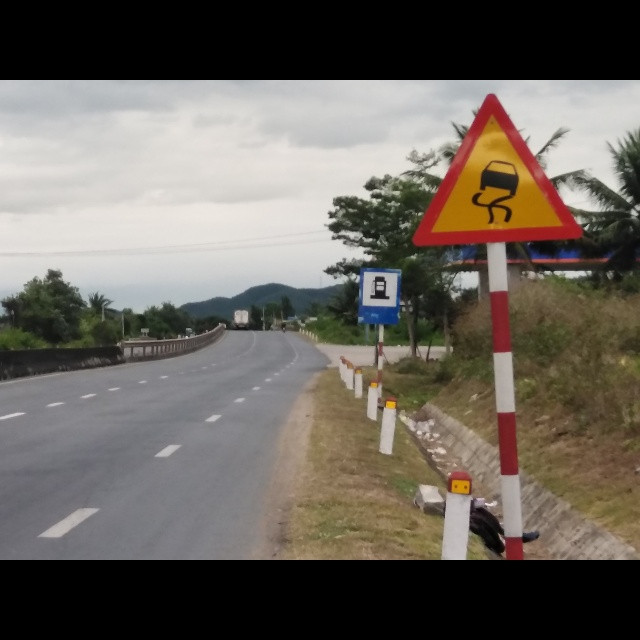Đường trơn trượt: (413, 97, 583, 246)
